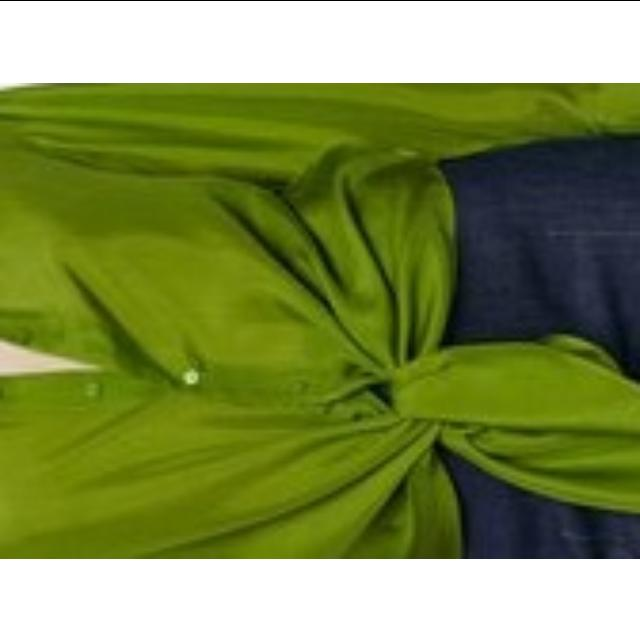silk: (0, 82, 468, 558)
